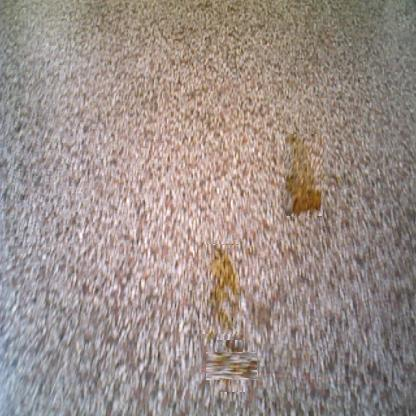liquid: (204, 244, 240, 335), (285, 134, 323, 216), (211, 346, 251, 387)
